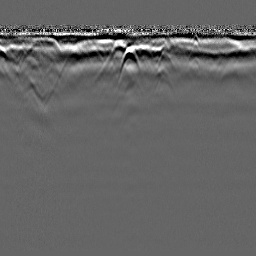cavity: (116, 44, 141, 80)
